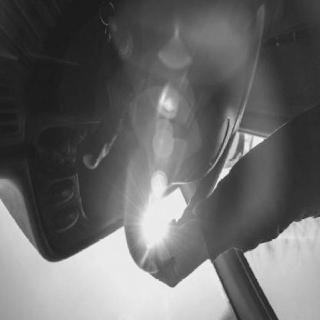other: (131, 44, 197, 193), (136, 199, 176, 247)
